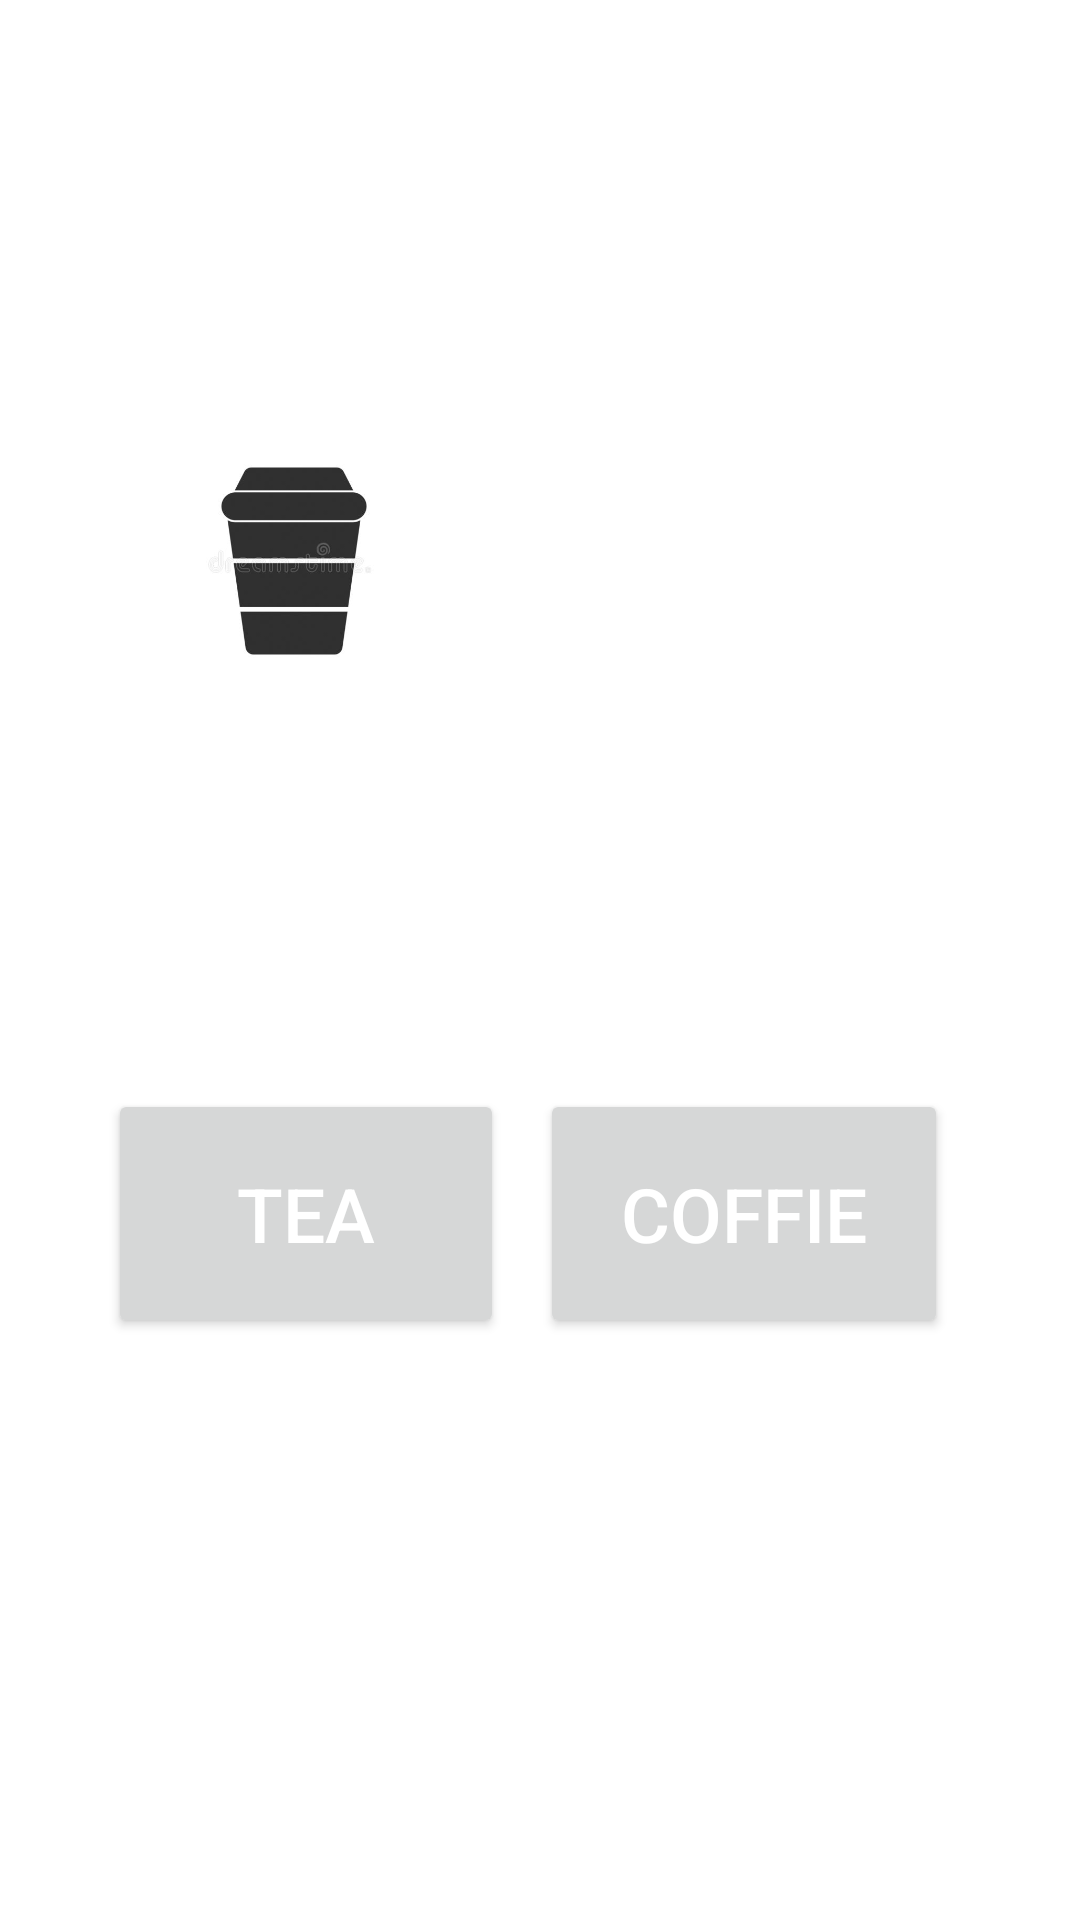

Named icons in this screenshot (1080*1920) and their bounding boxes, (x1, y1, x2, y2):
cup: (221, 467, 367, 655)
